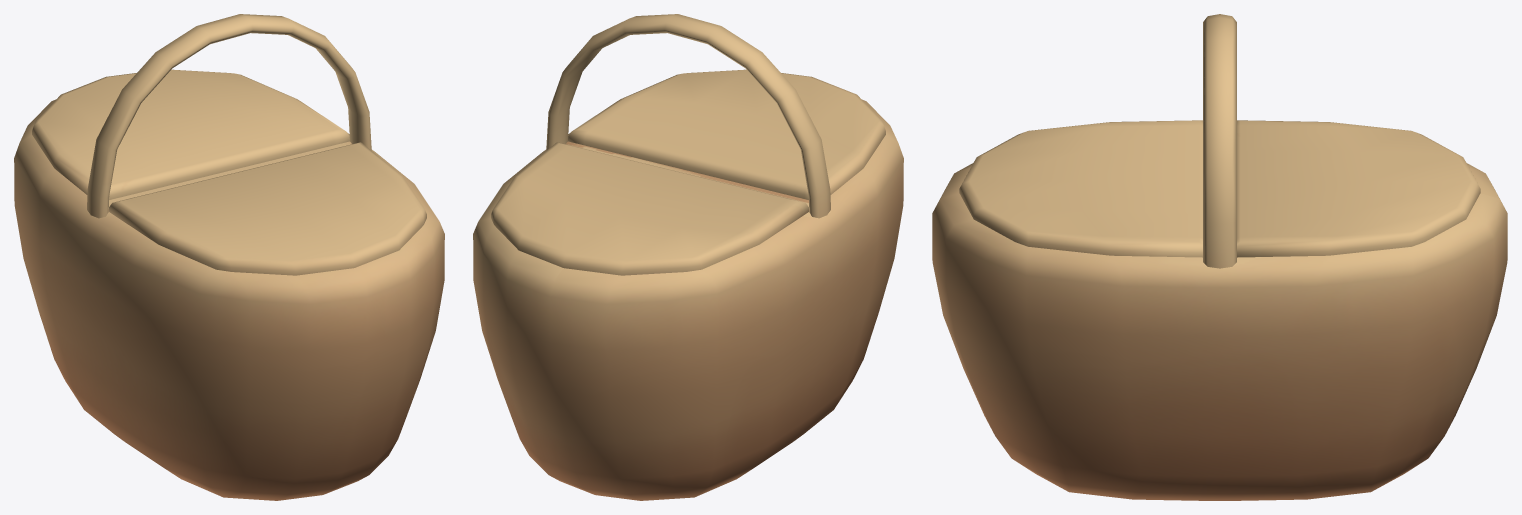
The model's file is Basket.fbx.
3 views of the same model, side by side, from view 1: azimuth 30°, elevation 25°; view 2: azimuth 150°, elevation 25°; view 3: azimuth 270°, elevation 25° (orthographic). The views are drawn at different scales.
Parts seen in each view (by area): view 1: Basket; view 2: Basket; view 3: Basket.
Boxes of the visible parts, x1=… form: Basket: x1=14, y1=14, x2=444, y2=500; Basket: x1=473, y1=14, x2=903, y2=500; Basket: x1=932, y1=14, x2=1507, y2=500.
Size of the model in its own units: 11.9 by 15.8 by 19.46.
